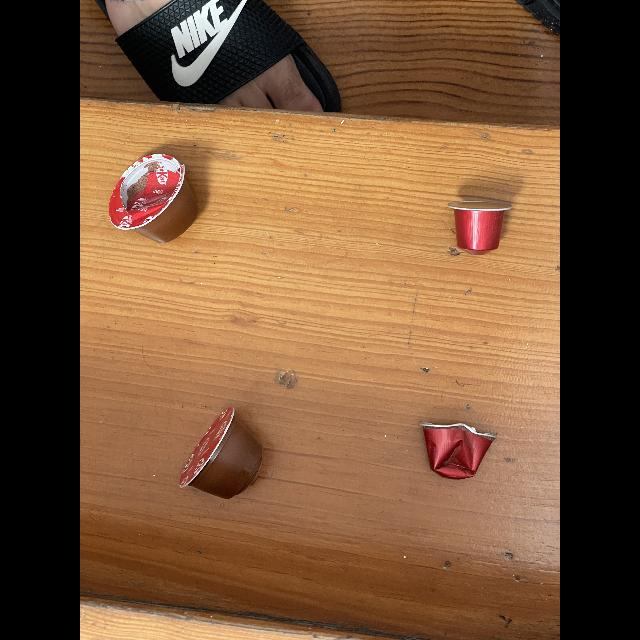damaged_capsule: (100, 144, 212, 256), (416, 410, 499, 484)
intact_capsule: (180, 401, 270, 507), (443, 198, 517, 260)
